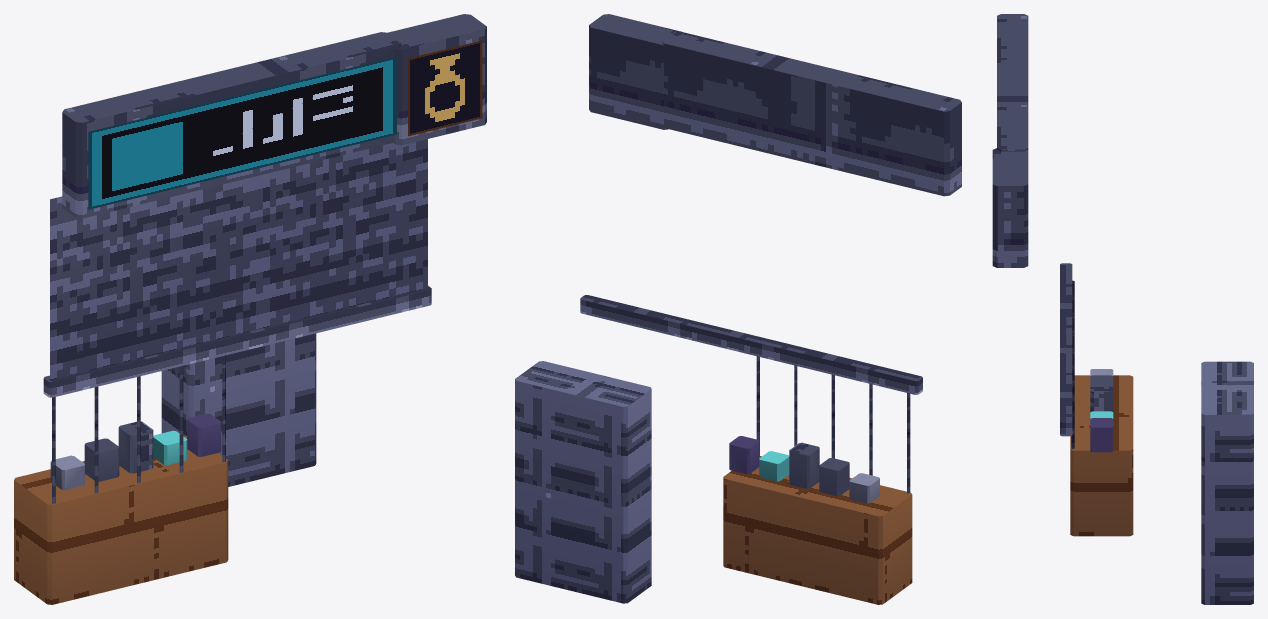
Rendered from cysign.pawn.glb.
The picture shows the model from 3 angles, left to right: view 1: azimuth 30°, elevation 25°; view 2: azimuth 150°, elevation 25°; view 3: azimuth 270°, elevation 25°; orthographic projection. The views are drawn at different scales.
Visible parts, largest first — view 1: kit_card_cards, kit_front, kit_bars; view 2: kit_front, kit_bars; view 3: kit_front, kit_bars.
Boxes of the visible parts, x1=… form: kit_card_cards: x1=50, y1=40, x2=482, y2=380; kit_front: x1=14, y1=14, x2=486, y2=604; kit_bars: x1=52, y1=355, x2=225, y2=503; kit_front: x1=515, y1=14, x2=961, y2=604; kit_bars: x1=756, y1=356, x2=910, y2=493; kit_front: x1=992, y1=14, x2=1253, y2=604; kit_bars: x1=1071, y1=280, x2=1074, y2=448.
Bounding box in the file's own units: 3.84 × 4.64 × 2.52.
12 materials, 10 textured.
